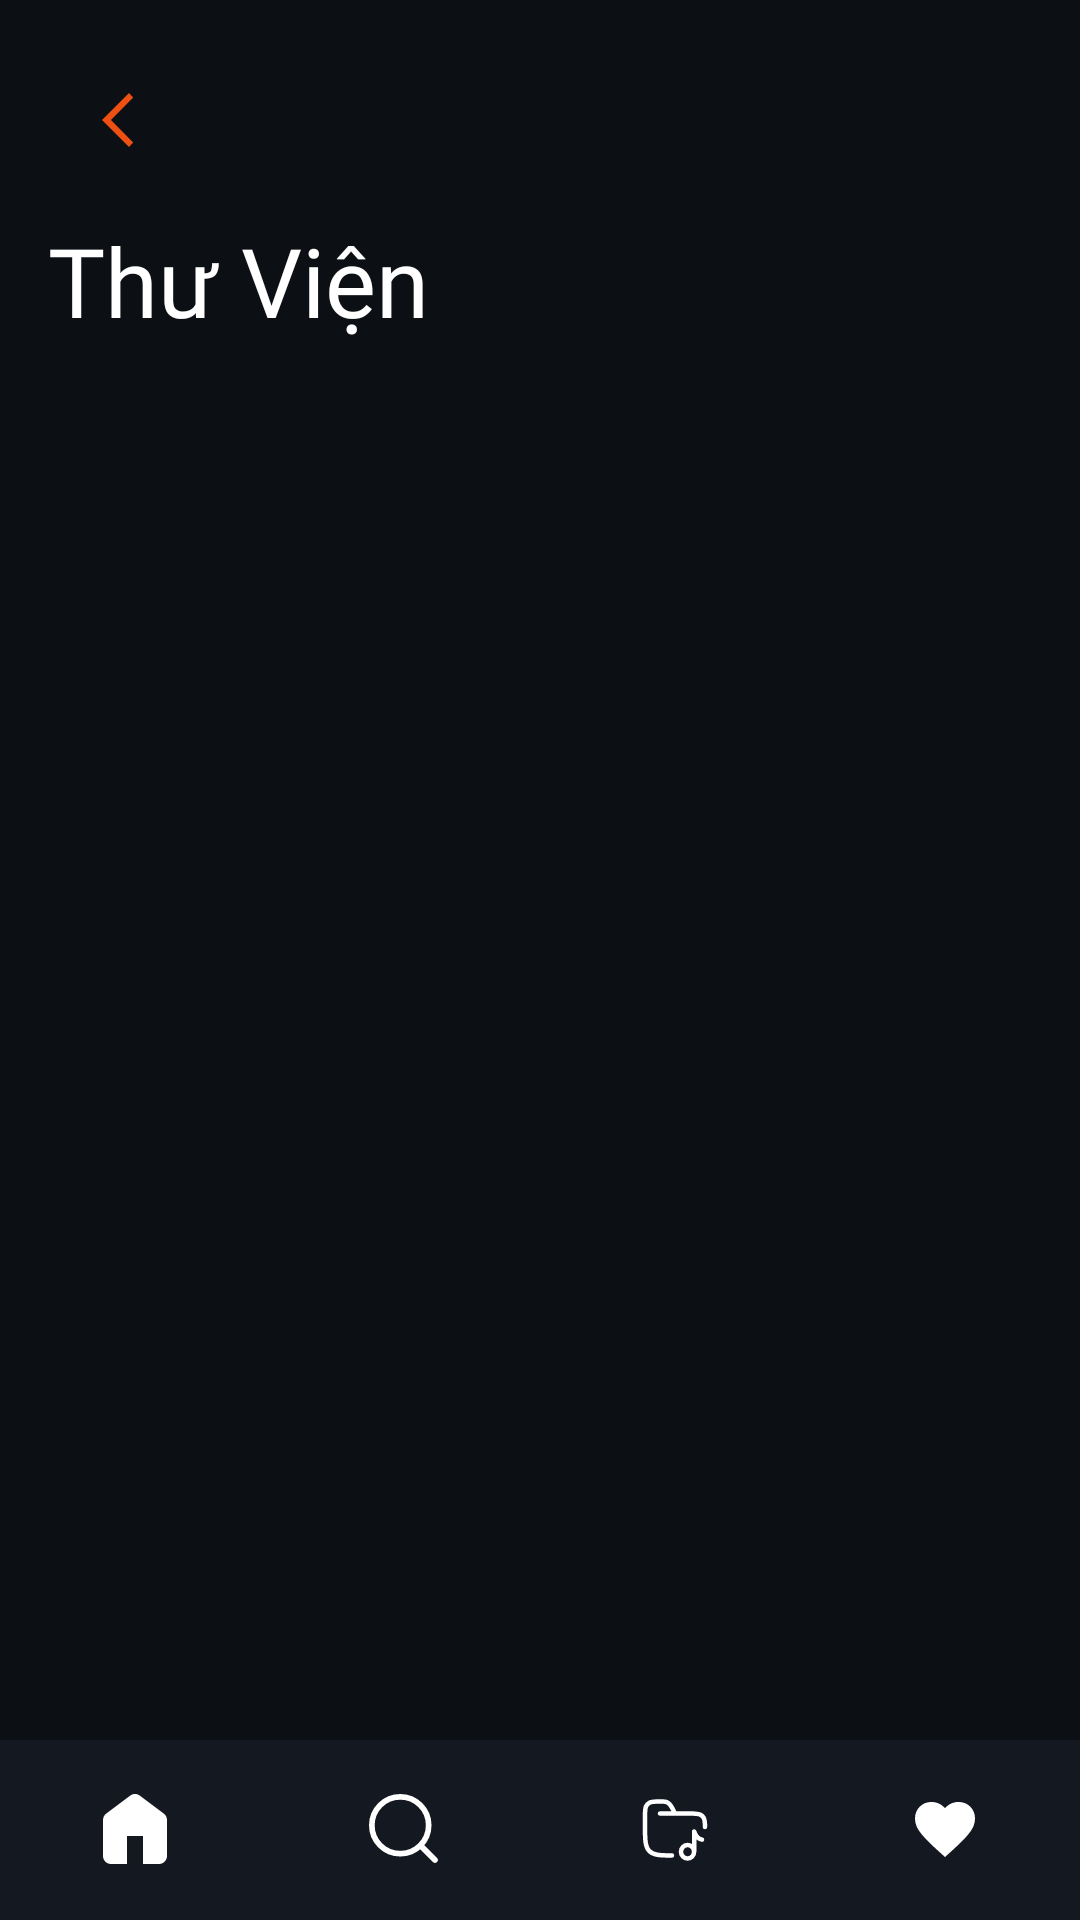

Icons on this 1080 × 1920 Android screen, each with the point to tap as [x,y]:
heart: [945,1829]
home: [135,1829]
prev back: [117,120]
search: [403,1828]
